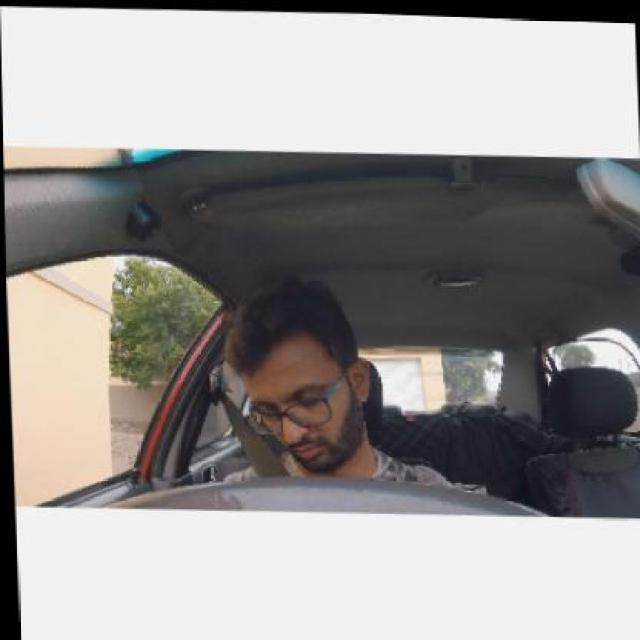drowsy: (205, 284, 385, 495)
